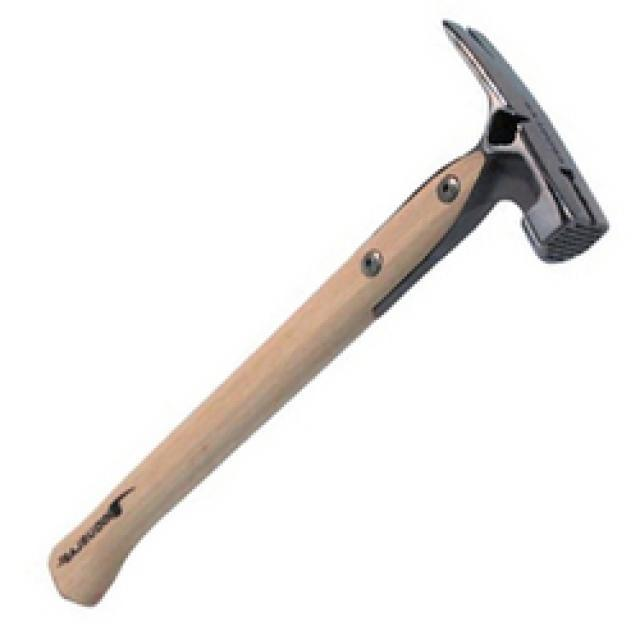hammer: (30, 12, 610, 616)
